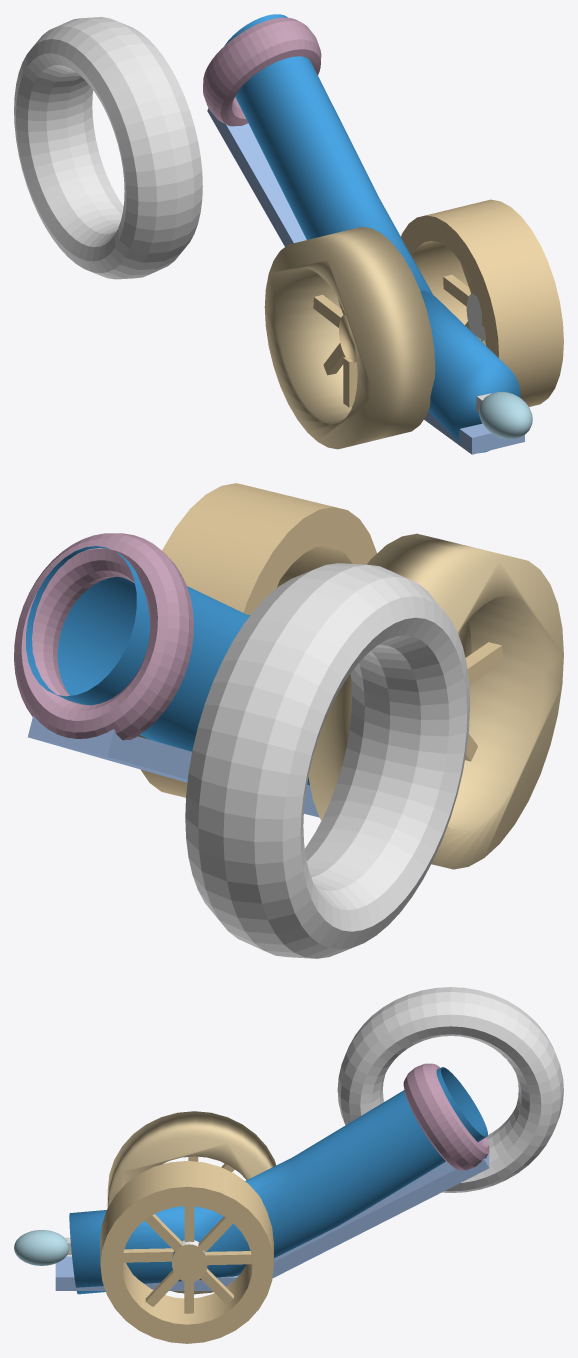
File: Cañonblender.fbx
The picture shows the model from 3 angles, top to bottom: view 1: azimuth 30°, elevation 25°; view 2: azimuth 150°, elevation 25°; view 3: azimuth 270°, elevation 25°; orthographic projection. The views are drawn at different scales.
Parts seen in each view (by area): view 1: Torus, Cylinder, Cylinder.002, Cylinder.001, Torus.002, Cube.016, Sphere, Cube, Circle.002, Cube.002; view 2: Torus, Cylinder, Torus.002, Cylinder.001, Cylinder.002, Cube.016, Cube.003; view 3: Cylinder.002, Torus, Cylinder.001, Cylinder, Cube.016, Torus.002, Sphere, Circle.002, Cube.011, Cube.010, Cube.013, Cube.012 (+2 smaller).
Boxes of the visible parts, bbox=[...] form: Torus: bbox=[14, 17, 202, 279]; Cylinder: bbox=[264, 226, 435, 449]; Cylinder.002: bbox=[224, 14, 520, 453]; Cylinder.001: bbox=[401, 199, 563, 406]; Torus.002: bbox=[203, 17, 321, 126]; Cube.016: bbox=[207, 108, 524, 454]; Sphere: bbox=[479, 392, 532, 439]; Cube: bbox=[343, 357, 357, 407]; Circle.002: bbox=[466, 293, 485, 341]; Cube.002: bbox=[313, 295, 343, 327]; Torus: bbox=[185, 563, 469, 958]; Cylinder: bbox=[308, 533, 563, 869]; Torus.002: bbox=[14, 533, 193, 740]; Cylinder.001: bbox=[137, 483, 376, 797]; Cylinder.002: bbox=[26, 546, 309, 785]; Cube.016: bbox=[28, 715, 319, 817]; Cube.003: bbox=[465, 642, 502, 685]; Cylinder.002: bbox=[69, 1067, 487, 1294]; Torus: bbox=[337, 987, 563, 1192]; Cylinder.001: bbox=[100, 1161, 273, 1343]; Cylinder: bbox=[107, 1111, 276, 1294]; Cube.016: bbox=[55, 1147, 489, 1290]; Torus.002: bbox=[403, 1063, 489, 1170]; Sphere: bbox=[14, 1230, 68, 1265]; Circle.002: bbox=[172, 1240, 207, 1282]; Cube.011: bbox=[122, 1248, 173, 1262]; Cube.010: bbox=[206, 1251, 252, 1265]; Cube.013: bbox=[145, 1214, 182, 1251]; Cube.012: bbox=[198, 1216, 233, 1252].
Bounding box in the file's own units: 304 × 325 × 634.
Materials: 22 (22 with a texture image).
